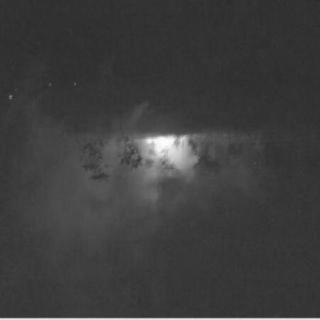Fire: (135, 138, 198, 168)
